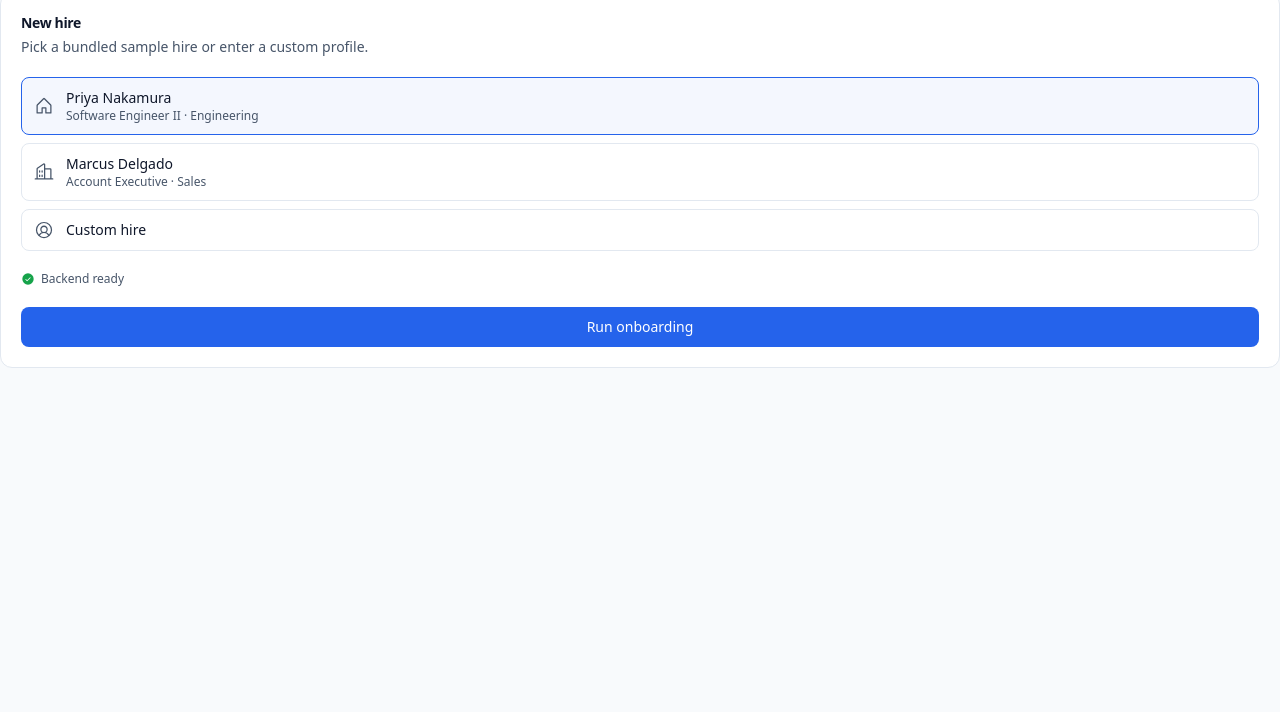
Test: HirePicker › disables the run button for an incomplete custom hire
The image size is (1280, 712).
Expected: the text "Priya Nakamura" is shown, [66,88,171,107]
Click the button "Custom hire": (106, 230) [21,209,1259,251]
(page scrolled)
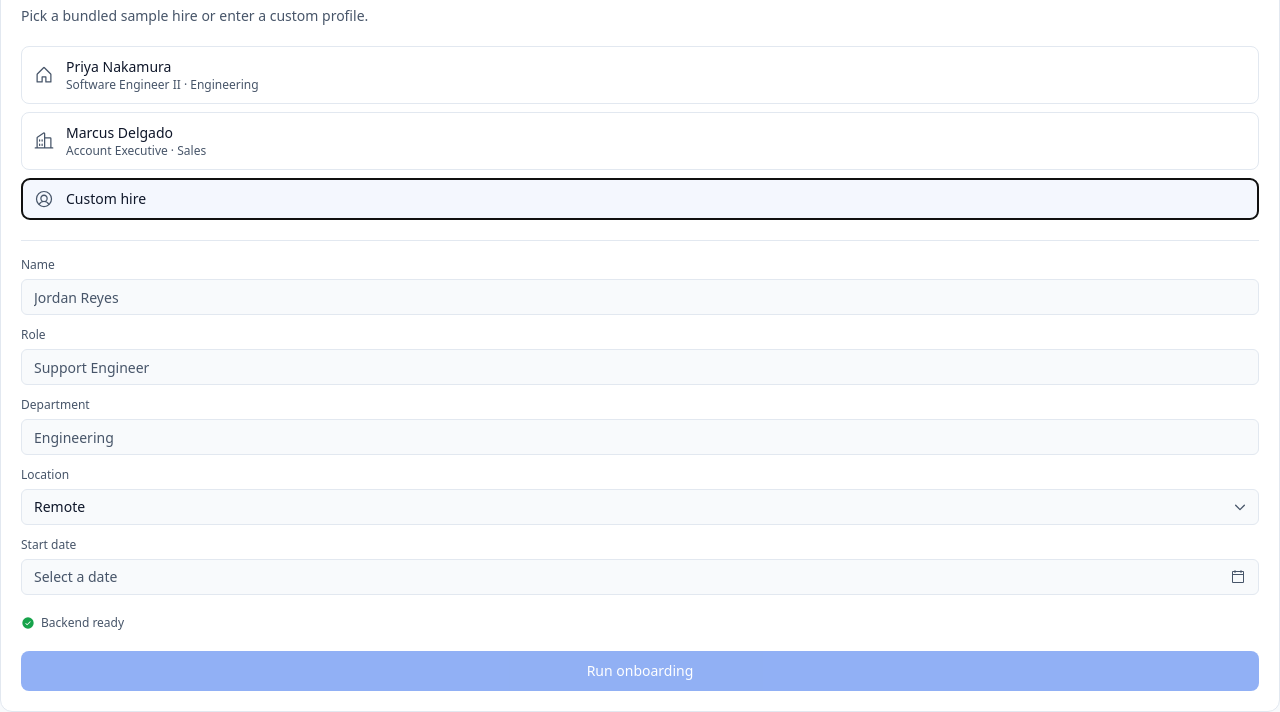
Expected: the button "Run onboarding" is disabled, [21,651,1259,691]
